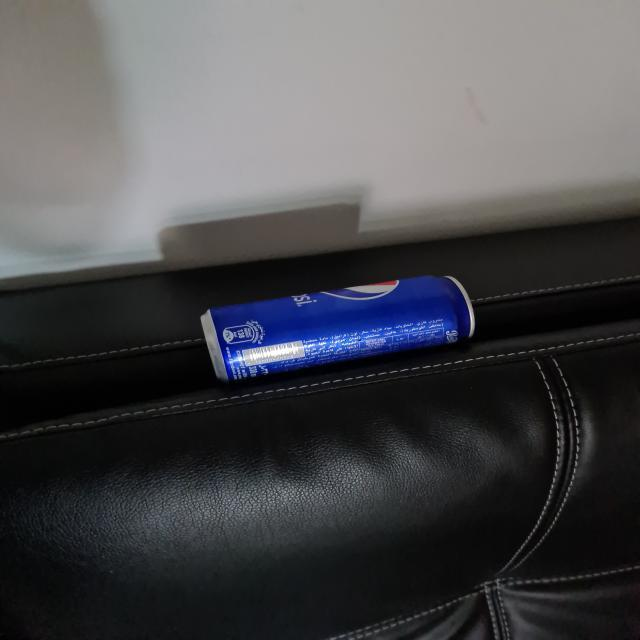can: (198, 274, 478, 381)
